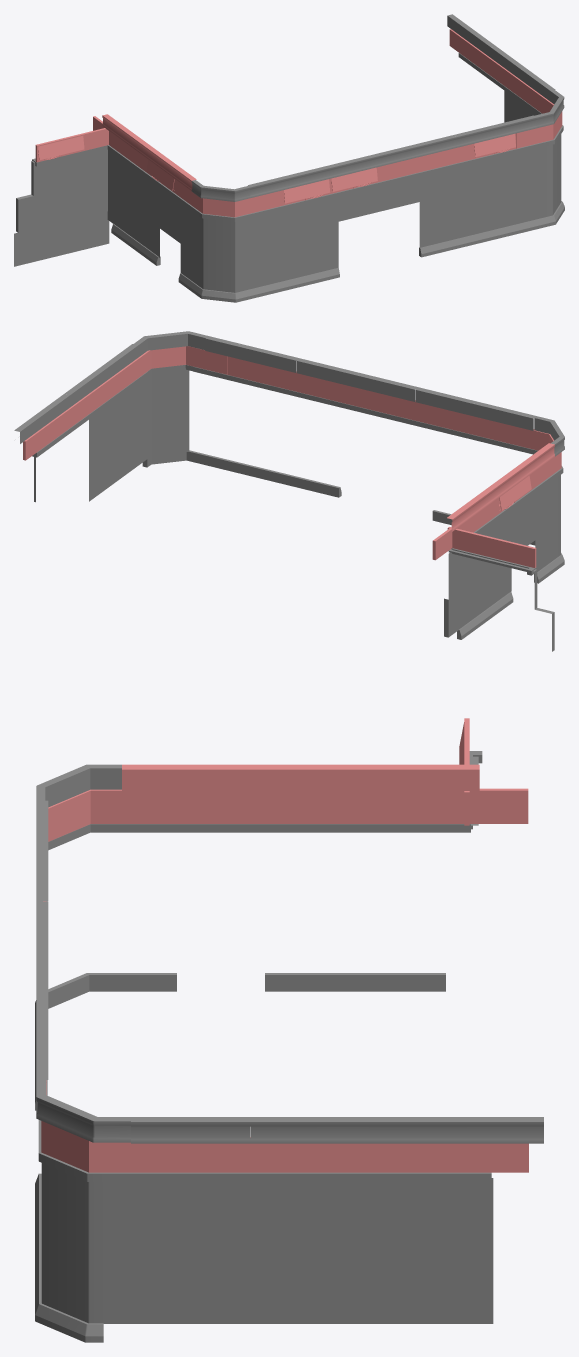
Rendered from S_Envi_Olgk_Buiding_Merge_05.gltf.
3 views of the same model, one above another, from view 1: azimuth 30°, elevation 25°; view 2: azimuth 150°, elevation 25°; view 3: azimuth 270°, elevation 25° (orthographic). The views are drawn at different scales.
Visible parts, largest first — view 1: S_Envi_Olgk_Buiding_Merge_05; view 2: S_Envi_Olgk_Buiding_Merge_05; view 3: S_Envi_Olgk_Buiding_Merge_05.
Boxes of the visible parts, x1,y1,x2,y2 form: S_Envi_Olgk_Buiding_Merge_05: (14,14,564,302); S_Envi_Olgk_Buiding_Merge_05: (14,331,564,651); S_Envi_Olgk_Buiding_Merge_05: (35,718,543,1342).
Bounding box in the file's own units: 57.53 × 15.39 × 27.77.
